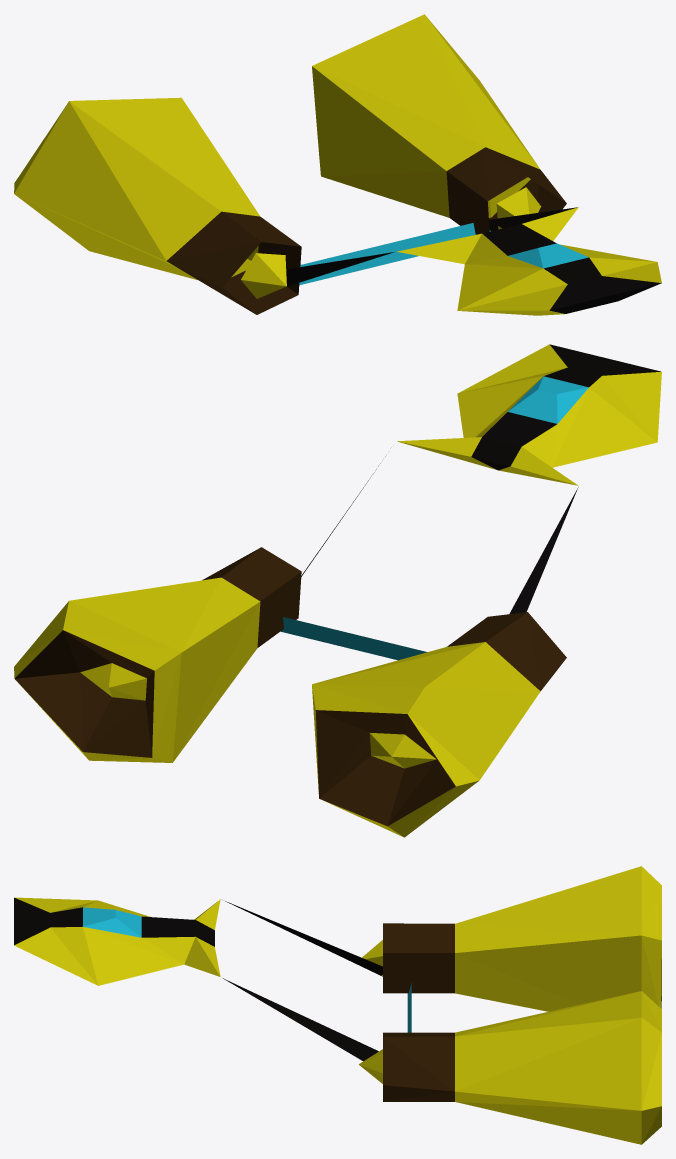
Rendered from Pod6.obj.
3 views of the same model, one above another, from view 1: azimuth 30°, elevation 25°; view 2: azimuth 150°, elevation 25°; view 3: azimuth 270°, elevation 25° (orthographic). The views are drawn at different scales.
Parts seen in each view (by area): view 1: Engine_R_Cube.001_BaseColor, Engine_R_Cube.001_Engine, Body_Cube_BaseColor, Body_Cube_Complement, Body_Cube_Glass; view 2: Engine_R_Cube.001_BaseColor, Engine_R_Cube.001_Engine, Body_Cube_BaseColor, Body_Cube_Complement, Body_Cube_Glass; view 3: Engine_R_Cube.001_BaseColor, Engine_R_Cube.001_Engine, Body_Cube_BaseColor, Body_Cube_Complement, Body_Cube_Glass.
Boxes of the visible parts, <box> form: Engine_R_Cube.001_BaseColor: <box>14,14,541,298</box>; Engine_R_Cube.001_Engine: <box>166,147,566,314</box>; Body_Cube_BaseColor: <box>397,207,661,315</box>; Body_Cube_Complement: <box>286,207,661,313</box>; Body_Cube_Glass: <box>299,223,588,285</box>; Engine_R_Cube.001_BaseColor: <box>14,577,540,837</box>; Engine_R_Cube.001_Engine: <box>14,547,566,826</box>; Body_Cube_BaseColor: <box>397,344,661,485</box>; Body_Cube_Complement: <box>301,344,660,614</box>; Body_Cube_Glass: <box>280,376,588,660</box>; Engine_R_Cube.001_BaseColor: <box>359,866,661,1144</box>; Engine_R_Cube.001_Engine: <box>383,923,661,1101</box>; Body_Cube_BaseColor: <box>14,897,220,985</box>; Body_Cube_Complement: <box>14,897,382,1061</box>; Body_Cube_Glass: <box>83,907,411,1032</box>.
Bounding box in the file's own units: 17.7 × 6.8 × 24.39.
